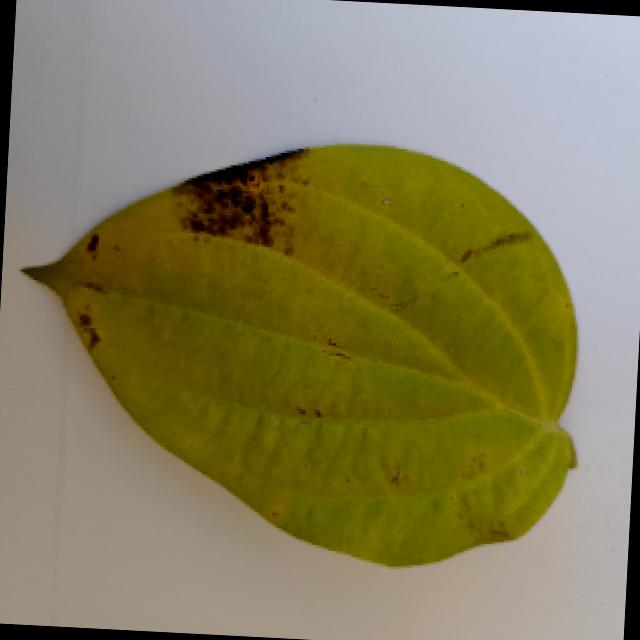slow-decline: (8, 110, 614, 580)
